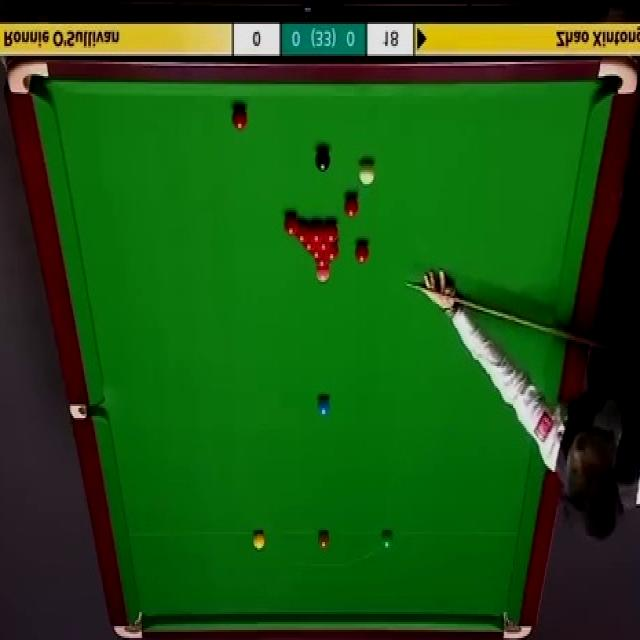pocket: (596, 60, 640, 95), (9, 60, 46, 95), (500, 612, 532, 640), (113, 611, 142, 640), (71, 402, 105, 422)
